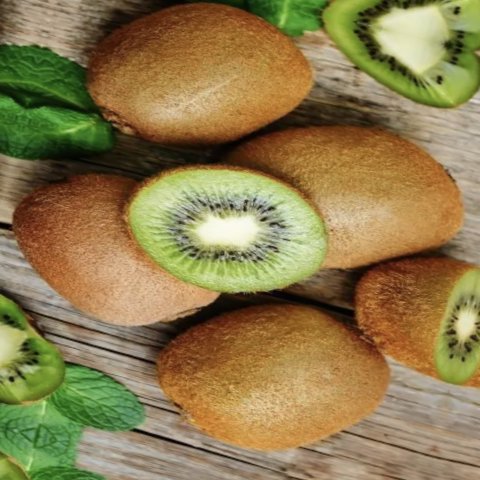kiwi: (191, 88, 480, 316), (130, 252, 407, 480), (0, 144, 276, 370), (53, 0, 342, 180)
